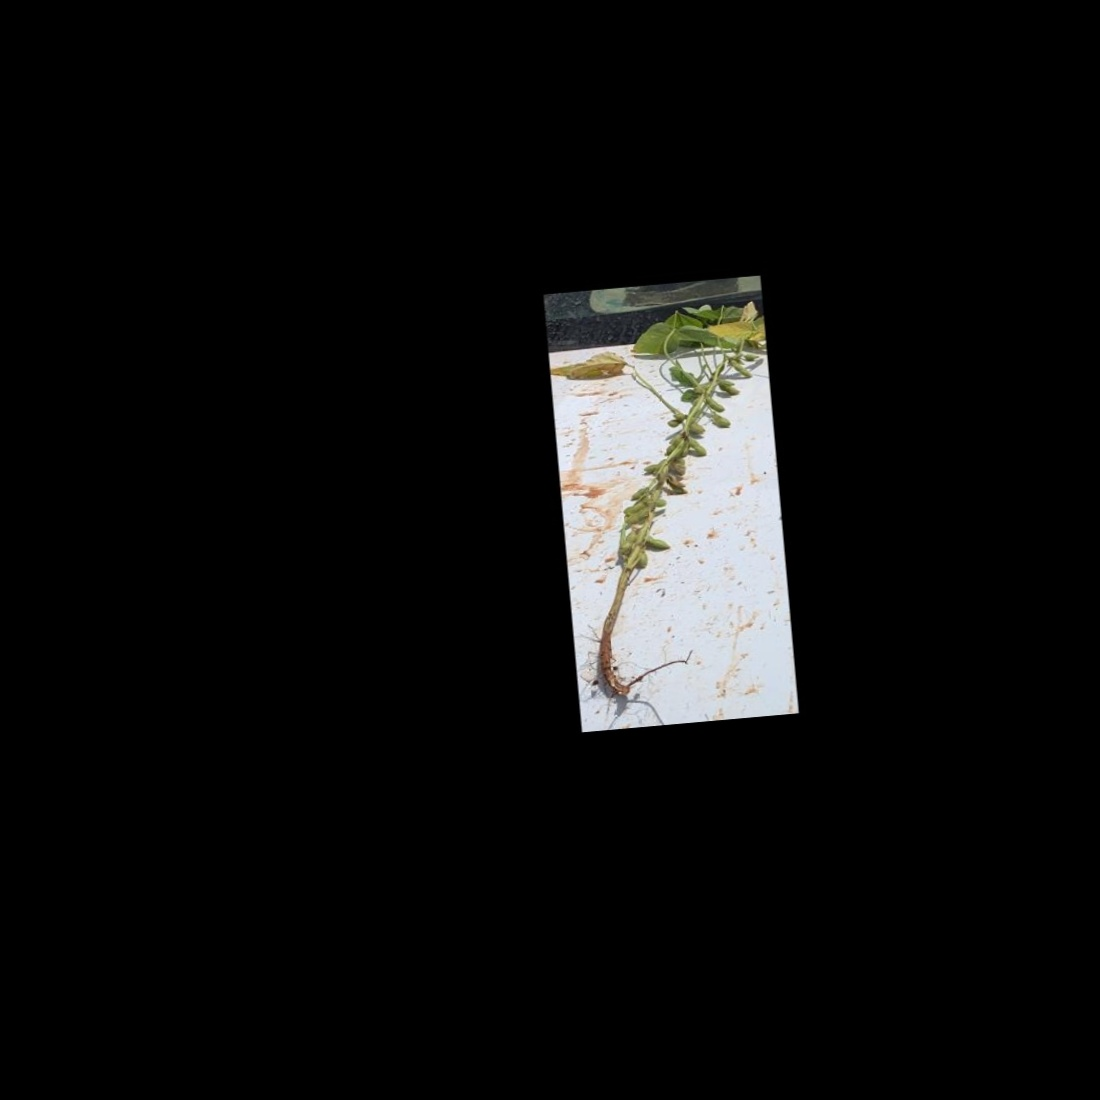pod: (636, 527, 672, 555), (700, 386, 726, 416), (706, 406, 734, 433), (685, 432, 709, 462), (727, 357, 754, 382), (617, 528, 640, 557)
soy: (553, 293, 791, 692)
